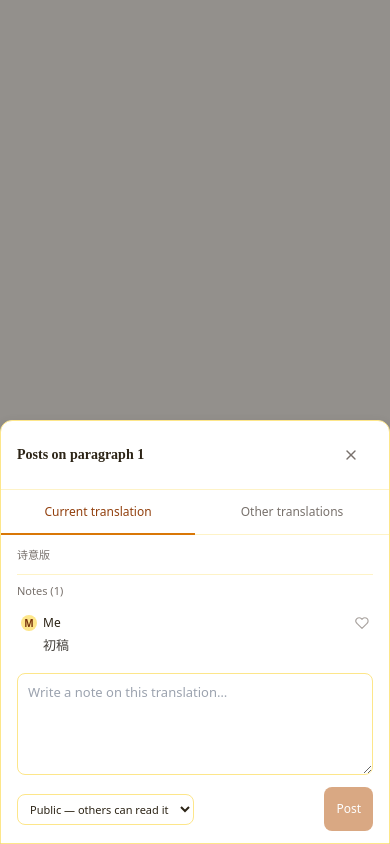
Test: my note can be edited in its detail — text and visibility
The width and height of the screenshot is (390, 844).
Click the button with aria-label "Open comment by Me": (29,623) [13, 607, 377, 664]
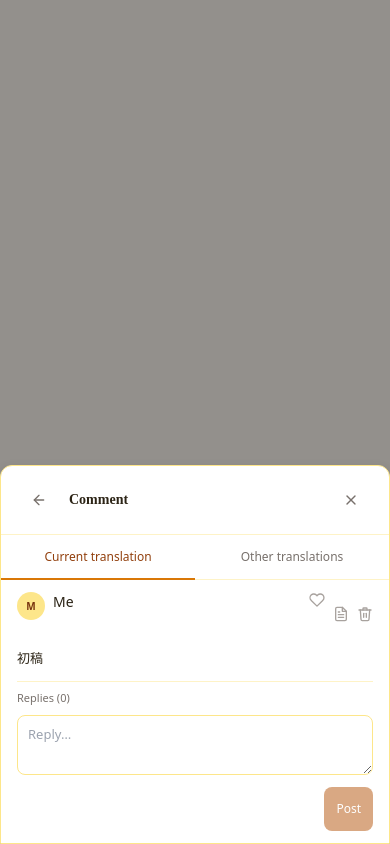
Click the button named "Edit note": (341,614) [333, 592, 349, 636]
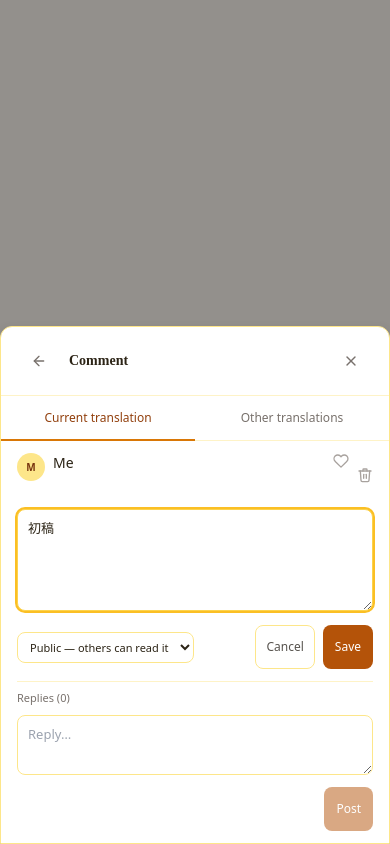
Check: the text box named "Edit note text" holds "初稿"
Replace the text in the text box named "Edit note text" with "改过的笔记": (195,560) [17, 509, 373, 611]
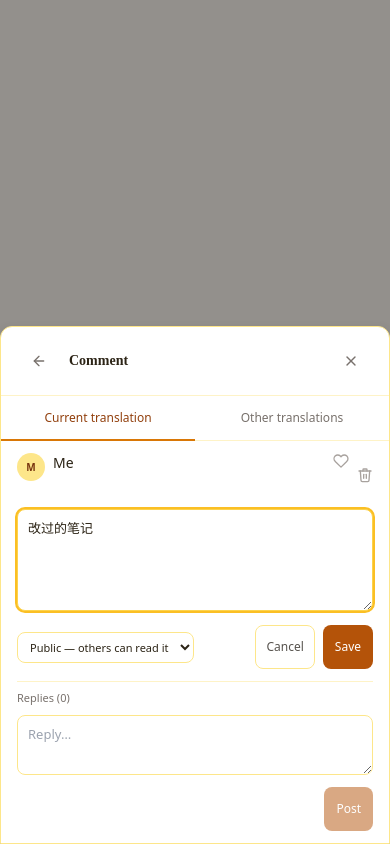
Select "Private — only you" in the dropdown named "Edit note visibility": (106,647) [17, 632, 194, 663]
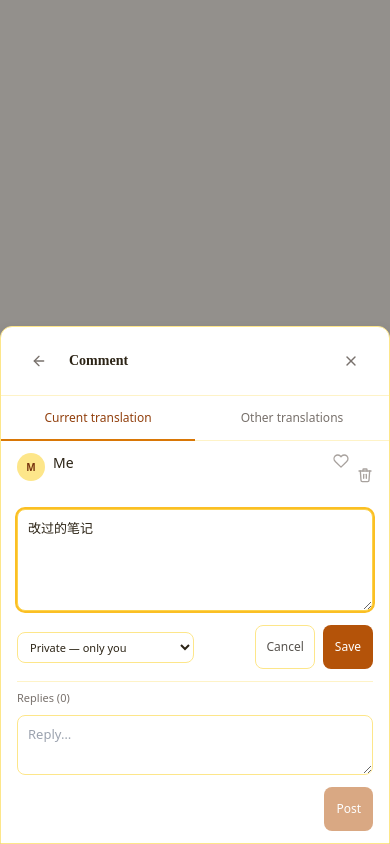
Click the button "Save": (348,647) [323, 625, 373, 669]
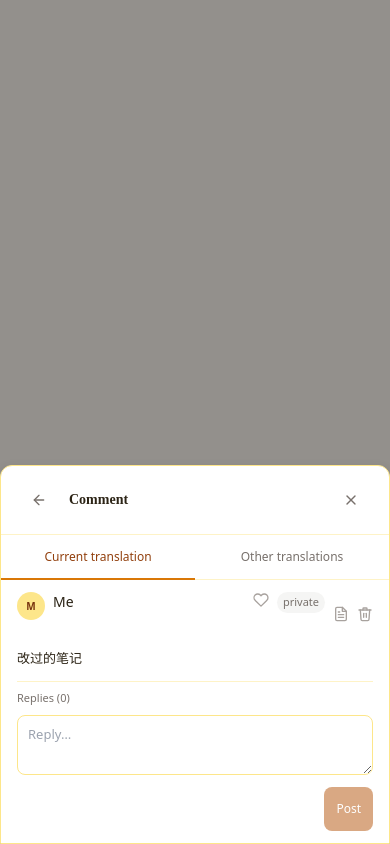
Check: the element with test id "comment-editor" is gone
Check: the text "改过的笔记" is shown, box [17, 649, 82, 667]
